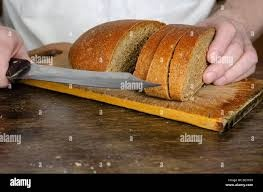knife: (6, 56, 162, 89)
